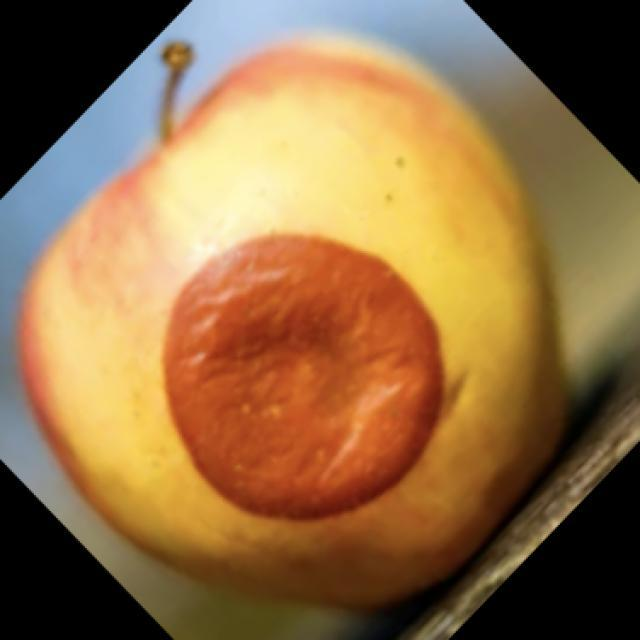Rotten: (80, 49, 585, 594)
